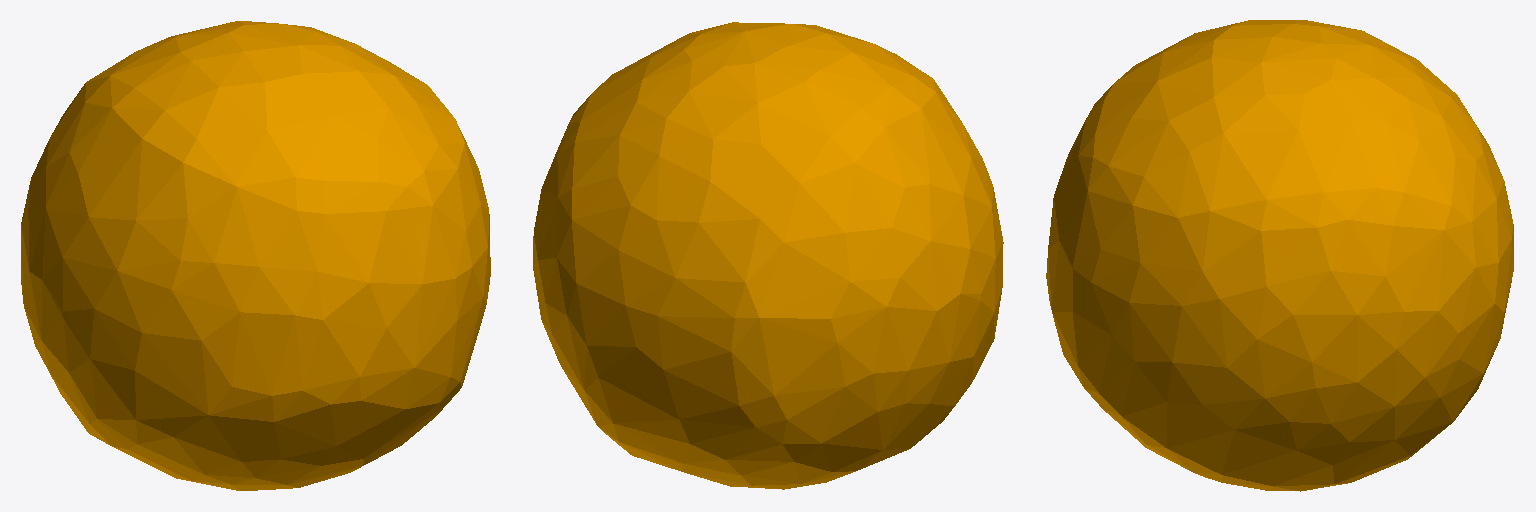
The robot description file, URDF, robot "054_softball":
<?xml version="1.0" encoding="UTF-8"?>
<robot name="054_softball">
	<link name="base">
		<collision>
			<geometry>
				<mesh filename="..\vhacd\054_softball_vhacd.obj" scale="1.0 1.0 1.0"/>
			</geometry>
			<origin xyz="0 0 0"/>
			<contact_coefficients mu="0.24" />
		</collision>
		<visual>
			<geometry>
				<mesh filename="..\vhacd\054_softball_vhacd.obj" scale="1.0 1.0 1.0"/>
			</geometry>
			<origin xyz="0 0 0"/>
		</visual>
		<inertial>
			<mass value="0"/>
			<inertia ixx="0.0" ixy="0.0" ixz="-0.0" iyy="0.0" iyz="0.0" izz="0.0" />
			<origin xyz="-0.019649794082658992 0.010882535865012635 0.04681713397673779"/>
		</inertial>
	</link>
</robot>

--- Render facts (derived) ---
Views: 3 orthographic renders of the robot side by side, from view 1: azimuth 30°, elevation 25°; view 2: azimuth 150°, elevation 25°; view 3: azimuth 270°, elevation 25°.
Robot: 054_softball — 1 links, 0 joints (none); root link base; default pose: all joints at 0.
Visible links, largest first — view 1: base; view 2: base; view 3: base.
Boxes of the visible links, x1=… form: base: x1=21, y1=21, x2=490, y2=490; base: x1=533, y1=22, x2=1003, y2=489; base: x1=1046, y1=20, x2=1513, y2=491.
Bounding box of the posed robot: 0.0958 × 0.0965 × 0.095 m (x, y, z).
1 mesh visuals loaded from 1 distinct referenced files (1 OBJ).